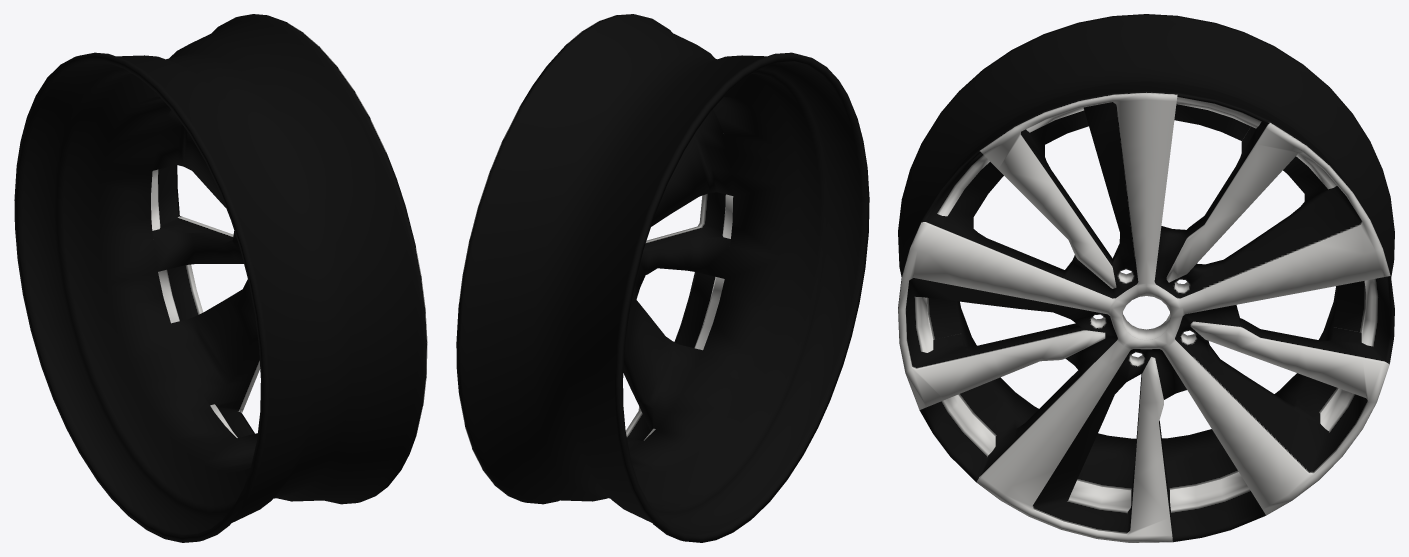
3 renders of one model, left to right at view 1: azimuth 30°, elevation 25°; view 2: azimuth 150°, elevation 25°; view 3: azimuth 270°, elevation 25°, orthographic.
Visible parts, largest first — view 1: Wheel.06.Low.Poly; view 2: Wheel.06.Low.Poly; view 3: Wheel.06.Low.Poly.
Boxes of the visible parts, <box> form: Wheel.06.Low.Poly: <box>14,14,427,542</box>; Wheel.06.Low.Poly: <box>456,14,869,542</box>; Wheel.06.Low.Poly: <box>898,14,1394,542</box>.
Size of the model in its own units: 70.1 by 187 by 187.
1 material, 1 textured.
